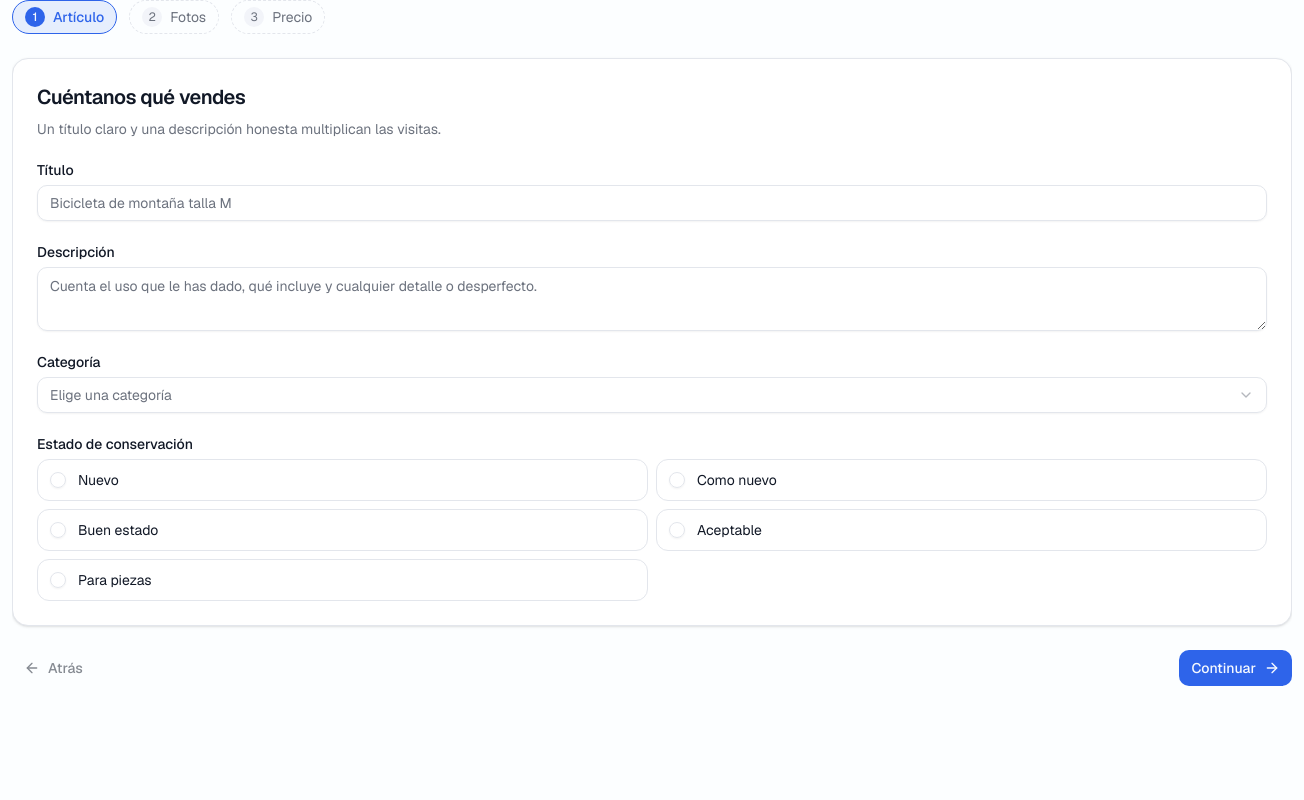
Test case: Campos inválidos › no avanza de paso y senala cada campo en error
Click the button "Continuar".
click(1236, 668)  # box [1179,650,1292,686]
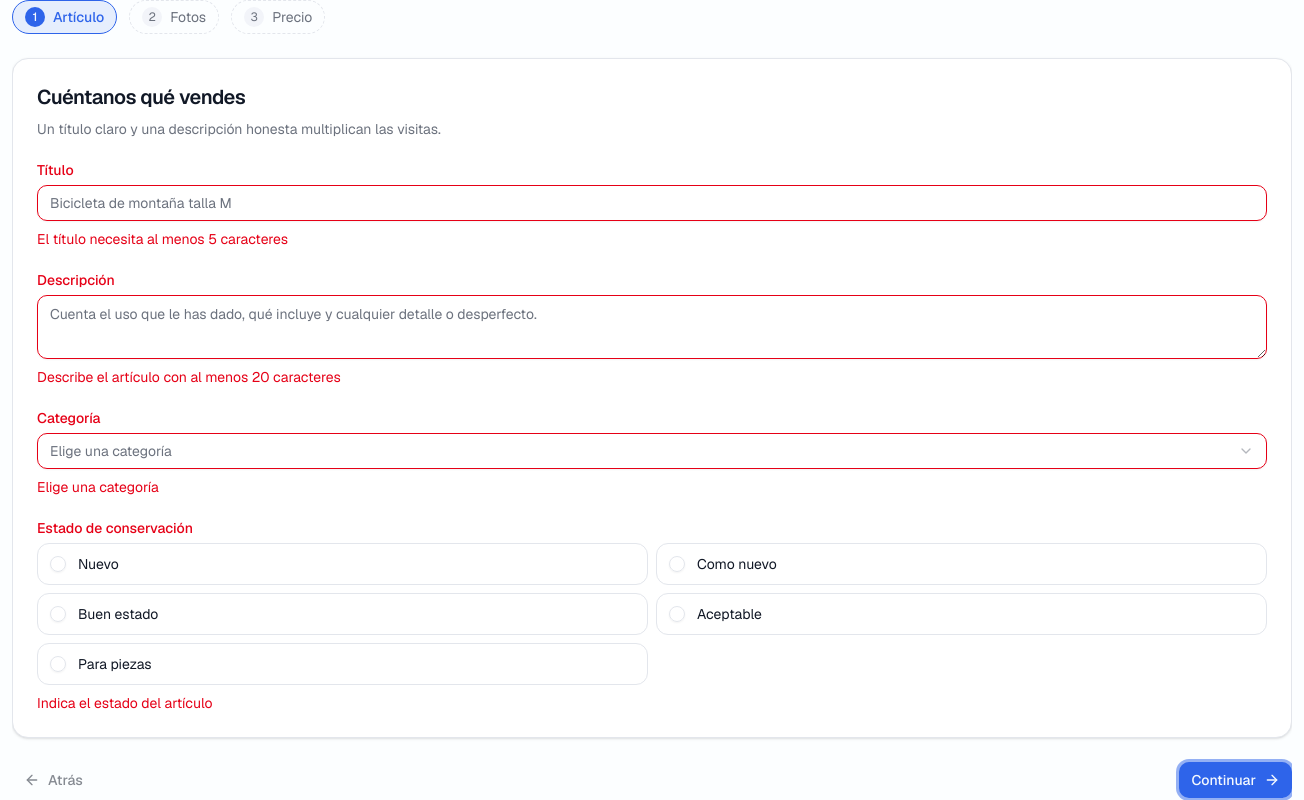
expect the list item "1 Artículo" is shown: met, box [12,0,117,34]
expect the text "El título necesita al menos 5 caracteres" is shown: met, box [37,230,288,248]
expect the text "Describe el artículo con al menos 20 caracteres" is shown: met, box [37,368,341,386]
